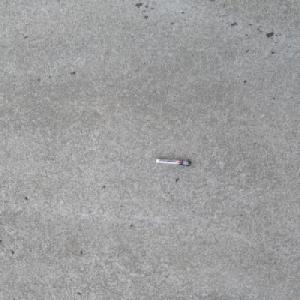Battery: (154, 158, 192, 166)
